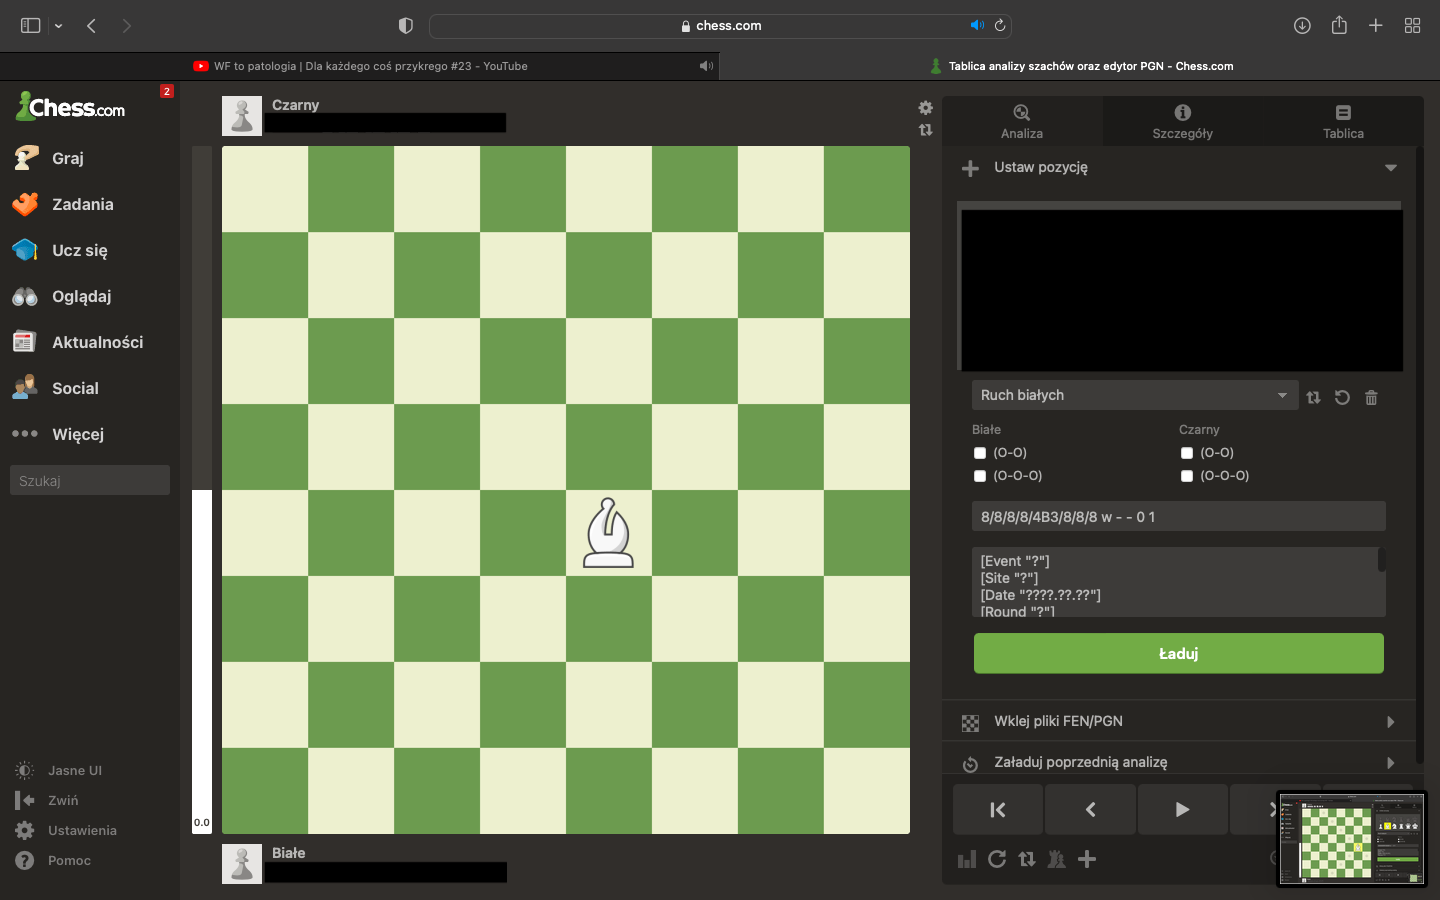white_bishop: (582, 497, 636, 570)
